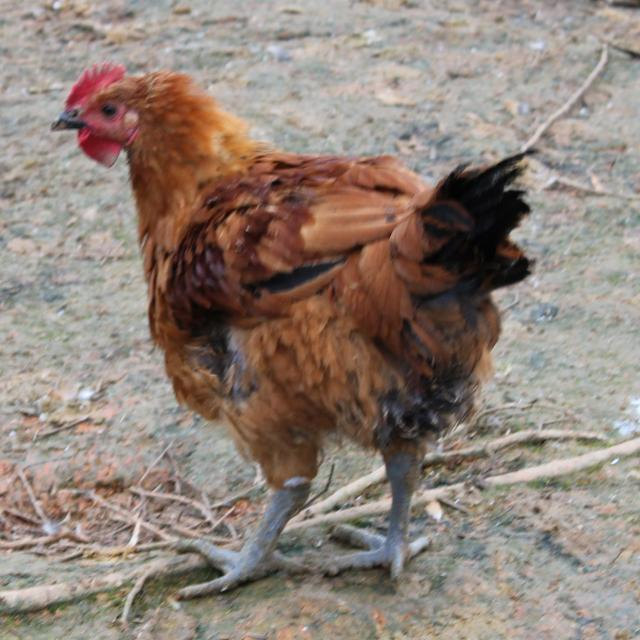hen: (47, 24, 563, 606)
